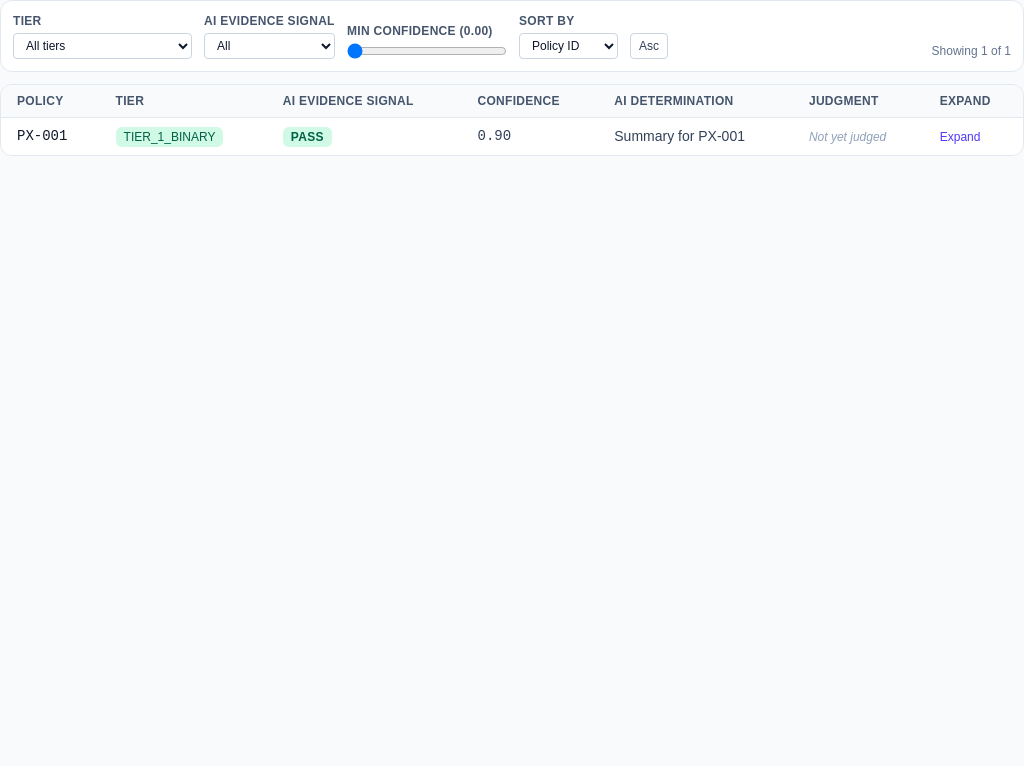
Test case: table-level: a CORPUS-SIDE packet item does NOT produce the matched marker (pins the post-filter adjudication)
This screenshot has width=1024, height=766.
Click the button with test id "per-policy-expand-toggle" at (960, 137), box 940,129 -> 980,145
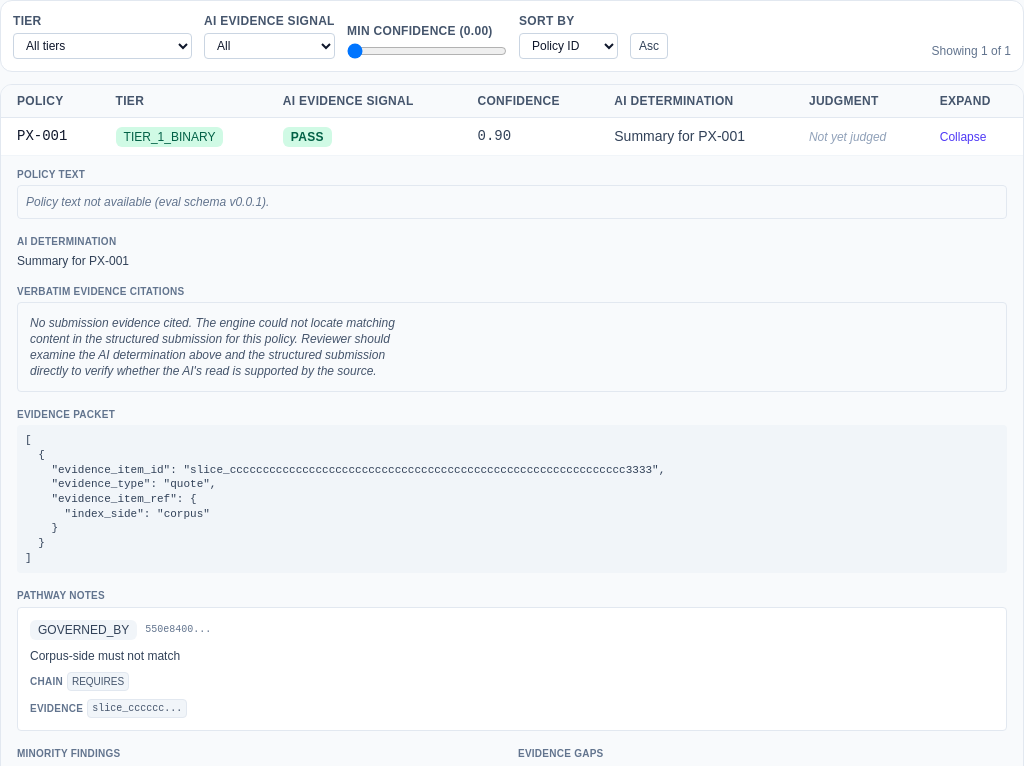
Now the text "slice_cccccc..." is shown, box 87,699 -> 187,718
